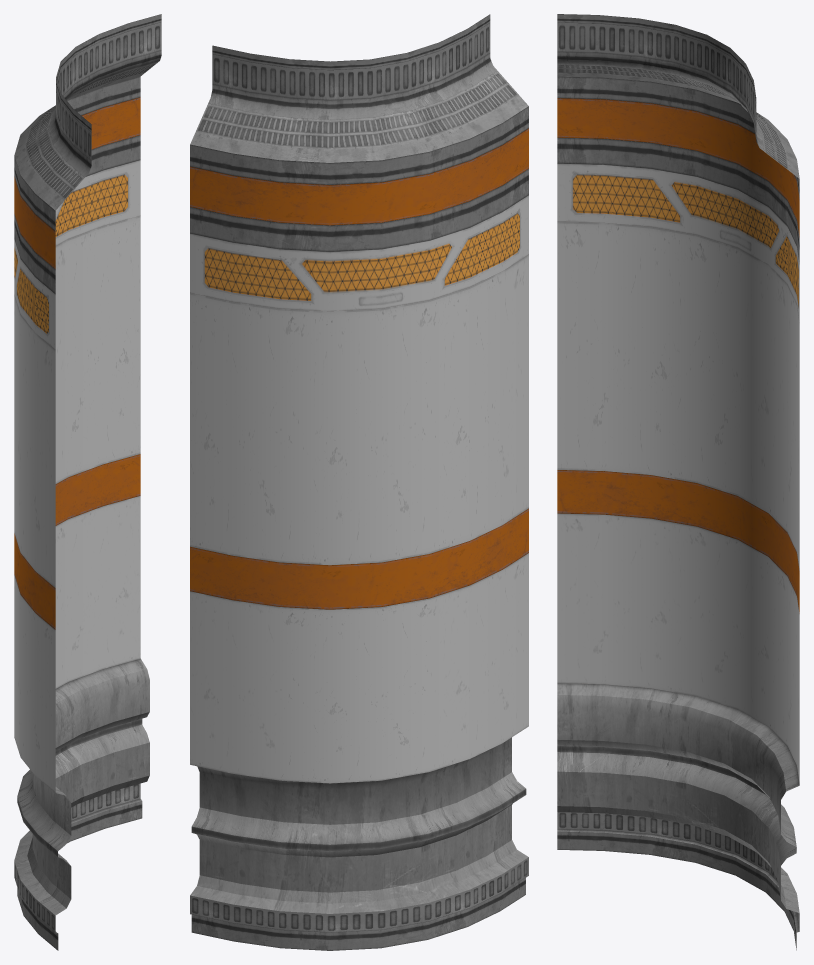
The model's file is Wall_CurvedInside.fbx.
3 views of the same model, side by side, from view 1: azimuth 30°, elevation 25°; view 2: azimuth 150°, elevation 25°; view 3: azimuth 270°, elevation 25° (orthographic). The views are drawn at different scales.
Parts seen in each view (by area): view 1: Wall_CurvedInside; view 2: Wall_CurvedInside; view 3: Wall_CurvedInside.
Boxes of the visible parts, box(x1,y1,x2,y2) form: Wall_CurvedInside: box(14, 14, 161, 950); Wall_CurvedInside: box(190, 14, 528, 950); Wall_CurvedInside: box(557, 14, 799, 950).
Size of the model in its own units: 2.26 by 8.76 by 2.26.
